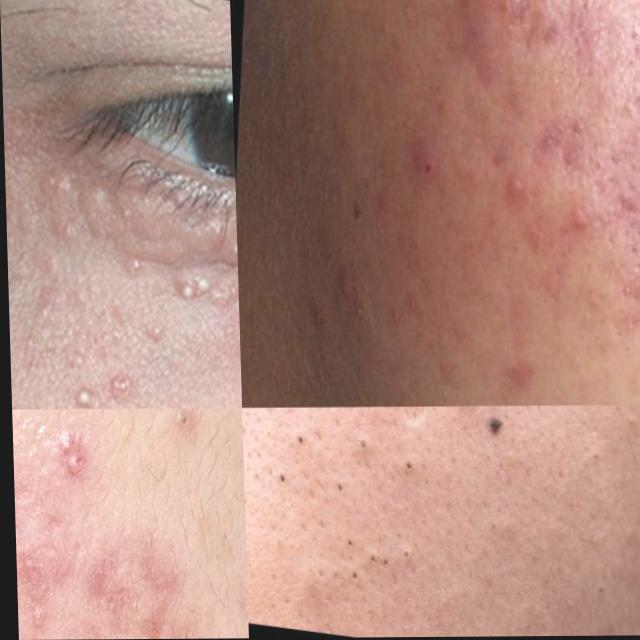7: (149, 269, 214, 318), (43, 367, 104, 409), (94, 378, 138, 409), (219, 247, 237, 279)
8: (555, 202, 598, 255), (629, 274, 640, 336)
blackheads: (447, 0, 517, 96), (8, 172, 87, 251), (73, 182, 146, 245), (163, 205, 236, 254), (399, 407, 427, 431)
dark spot: (329, 525, 419, 601), (574, 436, 607, 492), (466, 504, 500, 554), (251, 462, 292, 501), (395, 446, 422, 489), (342, 424, 371, 464), (277, 422, 310, 455), (611, 406, 640, 440), (320, 476, 347, 504), (446, 407, 480, 425)
